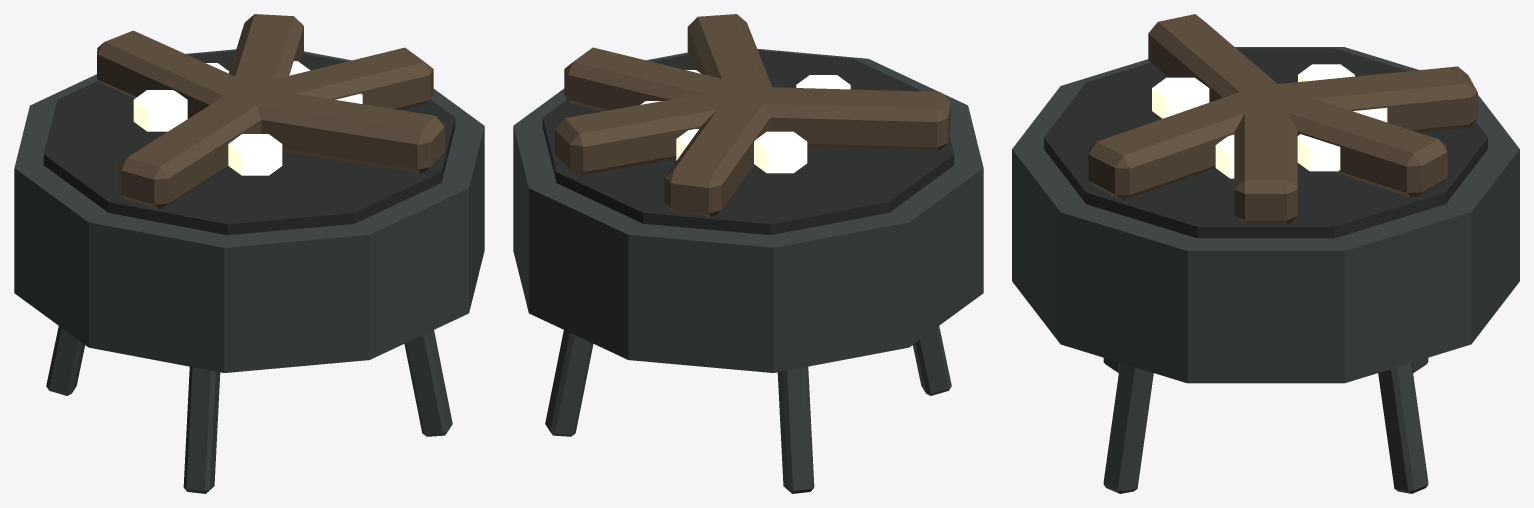
The model's file is Brazier01.fbx.
3 renders of one model, left to right at view 1: azimuth 30°, elevation 25°; view 2: azimuth 150°, elevation 25°; view 3: azimuth 270°, elevation 25°, orthographic. The views are drawn at different scales.
Parts seen in each view (by area): view 1: Fire_Bowl, Coal_Bed, Charred_Log.003, Charred_Log.002, Charred_Log.001, Charred_Log, Charred_Log.004, Foot, Foot.002, Ember.002, Ember.003, Foot.001; view 2: Fire_Bowl, Coal_Bed, Charred_Log.002, Charred_Log.004, Charred_Log.001, Charred_Log, Charred_Log.003, Foot.001, Foot.003, Ember.003, Foot, Ember.002; view 3: Fire_Bowl, Coal_Bed, Charred_Log.003, Charred_Log.004, Charred_Log.001, Charred_Log, Charred_Log.002, Foot.002, Foot.003, Ember.002, Ember.004, Ember.003 (+1 smaller).
Part boxes in pixels (x1,y1,x2,y2): Fire_Bowl: [14, 49, 484, 372]; Coal_Bed: [43, 51, 455, 235]; Charred_Log.003: [232, 84, 444, 173]; Charred_Log.002: [118, 82, 278, 208]; Charred_Log.001: [97, 30, 278, 118]; Charred_Log: [220, 47, 433, 110]; Charred_Log.004: [229, 14, 303, 105]; Foot: [183, 366, 220, 493]; Foot.002: [404, 330, 452, 436]; Ember.002: [228, 134, 282, 175]; Ember.003: [133, 90, 187, 131]; Foot.001: [46, 326, 85, 395]; Fire_Bowl: [513, 49, 983, 372]; Coal_Bed: [542, 50, 954, 235]; Charred_Log.002: [725, 86, 950, 150]; Charred_Log.004: [555, 84, 775, 175]; Charred_Log.001: [664, 83, 773, 216]; Charred_Log: [564, 47, 777, 111]; Charred_Log.003: [687, 14, 771, 103]; Foot.001: [777, 366, 814, 493]; Foot.003: [545, 330, 593, 436]; Ember.003: [754, 131, 807, 173]; Foot: [913, 326, 951, 395]; Ember.002: [796, 75, 850, 89]; Fire_Bowl: [1012, 47, 1519, 383]; Coal_Bed: [1044, 48, 1487, 238]; Charred_Log.003: [1088, 83, 1296, 199]; Charred_Log.004: [1237, 94, 1447, 197]; Charred_Log.001: [1238, 66, 1477, 132]; Charred_Log: [1234, 84, 1297, 224]; Charred_Log.002: [1148, 14, 1294, 107]; Foot.002: [1103, 363, 1153, 493]; Foot.003: [1378, 363, 1428, 493]; Ember.002: [1152, 77, 1209, 118]; Ember.004: [1297, 134, 1340, 171]; Ember.003: [1298, 64, 1354, 81].
Bounding box in the file's own units: 76.08 × 58.3 × 80.
